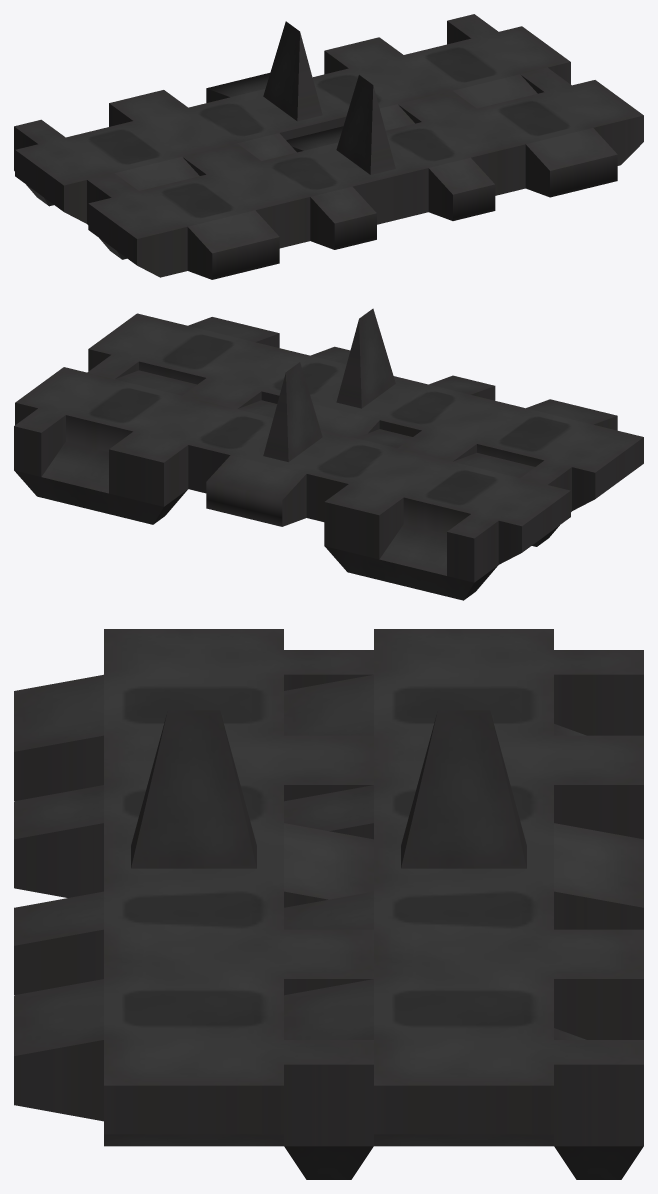
The model's file is T-35_Belt_Sp0300.fbx.
3 renders of one model, top to bottom at view 1: azimuth 30°, elevation 25°; view 2: azimuth 150°, elevation 25°; view 3: azimuth 270°, elevation 25°, orthographic. The views are drawn at different scales.
Visible parts, largest first — view 1: T-35_Belt_Sp0300; view 2: T-35_Belt_Sp0300; view 3: T-35_Belt_Sp0300.
Boxes of the visible parts, x1,y1,x2,y2 form: T-35_Belt_Sp0300: (14,14,643,279); T-35_Belt_Sp0300: (14,308,643,600); T-35_Belt_Sp0300: (14,629,643,1179).
Bounding box in the file's own units: 0.6 × 0.17 × 0.35.
